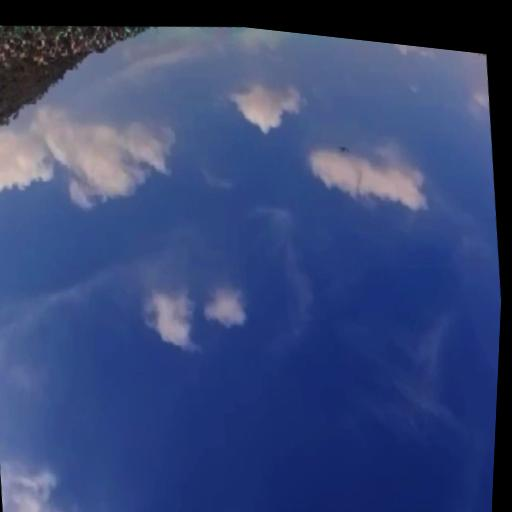drones: (336, 137, 353, 161)
